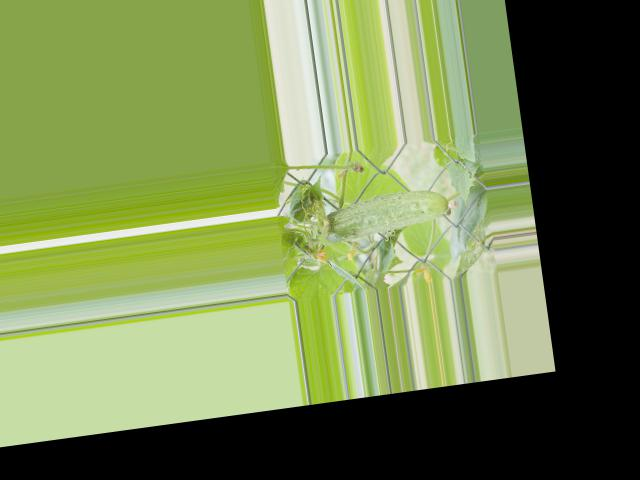cucumber: (314, 185, 459, 243)
